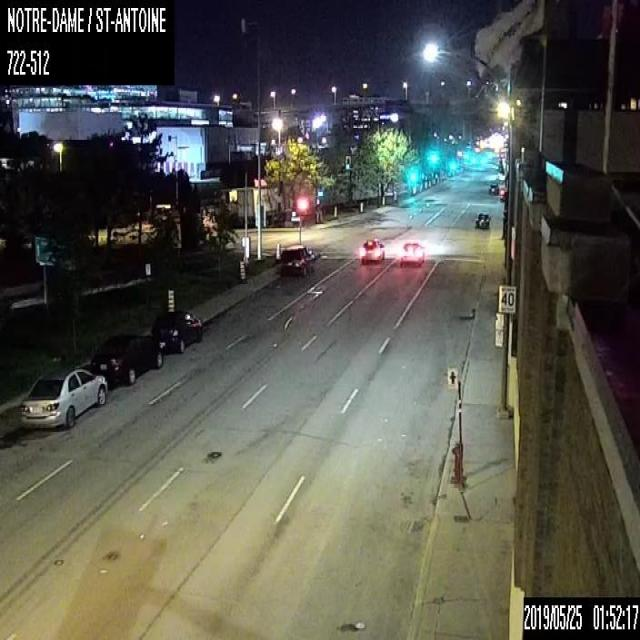construction: (238, 259, 246, 280), (166, 287, 173, 309), (274, 240, 279, 259)
vehicle: (20, 367, 106, 427), (88, 333, 163, 384), (150, 307, 204, 353), (274, 243, 312, 277), (398, 240, 426, 265), (361, 236, 384, 263), (475, 210, 490, 227), (488, 183, 498, 193)
